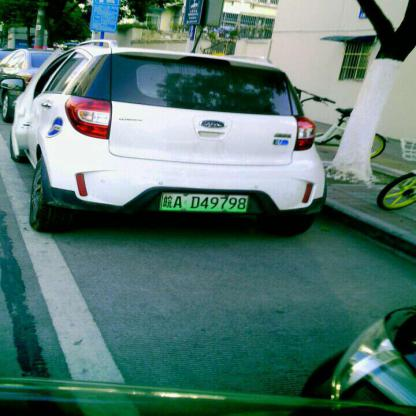lp: (158, 192, 248, 214)
